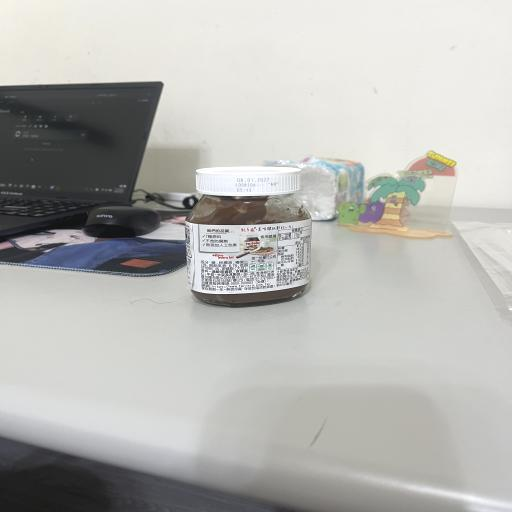chocolate_jar: (186, 166, 311, 307)
